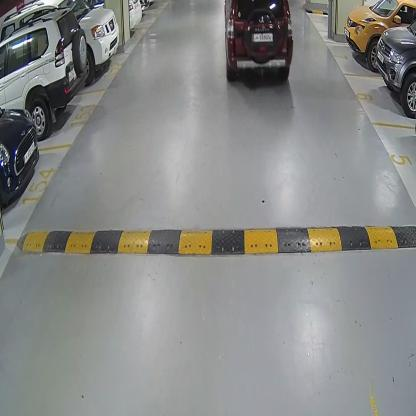np: (253, 30, 273, 44)
